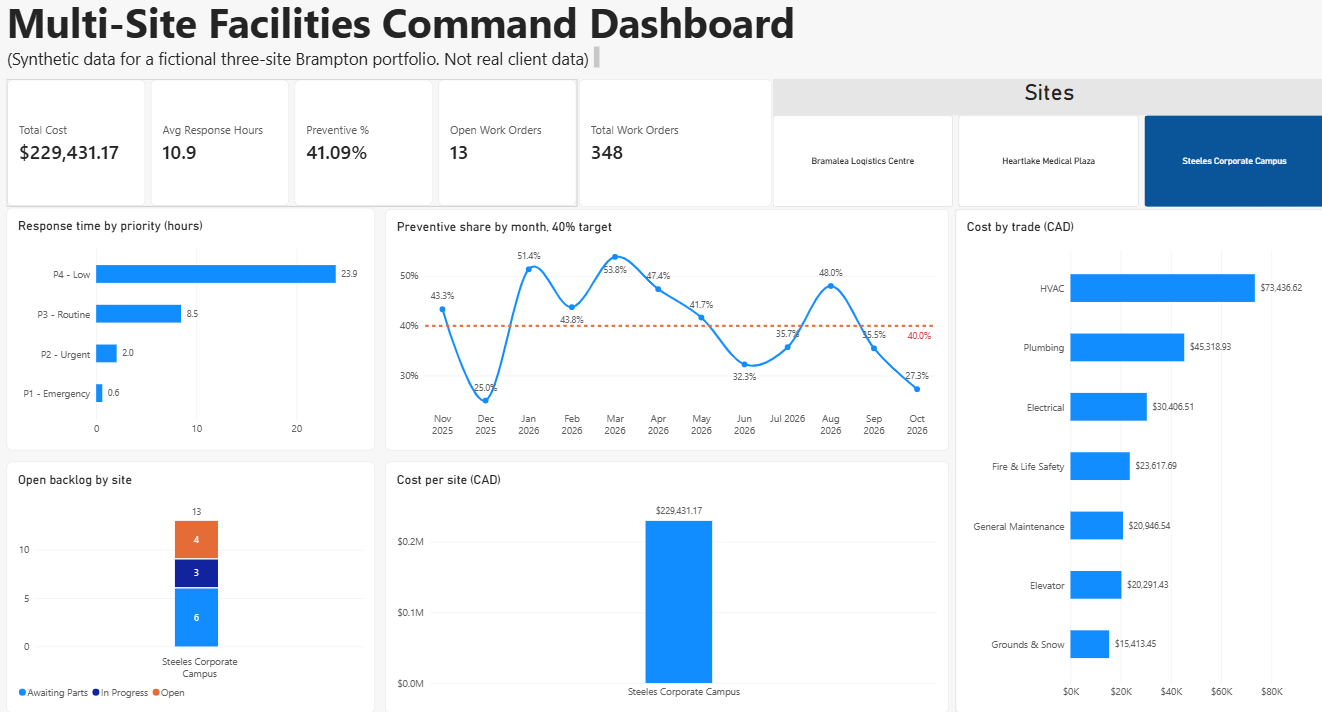

The dashboard page shown, as its layout file describes it:
{"tool":"powerbi","page":{"name":"Page 1","canvas":[1920,1080],"ordinal":0},"visuals":[{"type":"cardVisual","fields":{"Data":["WorkOrders.Total Work Orders"]},"box":[839.8,123.5,279.9,185.2],"z":0},{"type":"cardVisual","fields":{"Data":["WorkOrders.Total Cost","WorkOrders.Avg Response Hours","WorkOrders.Preventive %","WorkOrders.Open Work Orders"]},"box":[10.3,123.5,829.5,185.2],"z":1000},{"type":"clusteredBarChart","title":"Response time by priority (hours)","fields":{"Category":["WorkOrders.priority"],"Y":["WorkOrders.Avg Response Hours"]},"box":[10.9,309.5,533.8,351.1],"z":2000},{"type":"columnChart","title":"Open backlog by site","fields":{"Category":["WorkOrders.site"],"Series":["WorkOrders.status"],"Y":["WorkOrders.Open Work Orders"]},"box":[10.9,676.8,533.8,365.6],"z":3000},{"type":"lineChart","title":"Preventive share by month, 40% target","fields":{"Category":["Calendar.Month"],"Y":["WorkOrders.Preventive %"]},"box":[559.2,311.3,816.2,349.3],"z":4000},{"type":"clusteredColumnChart","title":"Cost per site (CAD)","fields":{"Category":["WorkOrders.site"],"Y":["WorkOrders.Total Cost"]},"box":[559.2,676.8,816.2,365.6],"z":5000},{"type":"clusteredBarChart","title":"Cost by trade (CAD)","fields":{"Category":["WorkOrders.trade"],"Y":["WorkOrders.Total Cost"]},"box":[1384.4,311.3,535.7,731.1],"z":6000},{"type":"advancedSlicerVisual","fields":{"Values":["WorkOrders.site"]},"box":[1119.7,123.5,800.7,185.2],"z":7000},{"type":"textbox","box":[10.3,0,1183.5,150.3],"z":7001},{"type":"textbox","box":[10.3,76.2,858.3,30.9],"z":7002}]}

Visuals, with their boxes on the page's 1920x1080 design canvas (x1, y1, x2, y2). These are canvas units, not pixel positions in the 1322x712 screenshot, which may show the page scaled, cropped or inside an application window:
cardVisual - WorkOrders.Total Work Orders: {"left": 840, "top": 124, "right": 1120, "bottom": 309}
cardVisual - WorkOrders.Total Cost x WorkOrders.Avg Response Hours: {"left": 10, "top": 124, "right": 840, "bottom": 309}
"Response time by priority (hours)" clusteredBarChart: {"left": 11, "top": 310, "right": 545, "bottom": 661}
"Open backlog by site" columnChart: {"left": 11, "top": 677, "right": 545, "bottom": 1042}
"Preventive share by month, 40% target" lineChart: {"left": 559, "top": 311, "right": 1375, "bottom": 661}
"Cost per site (CAD)" clusteredColumnChart: {"left": 559, "top": 677, "right": 1375, "bottom": 1042}
"Cost by trade (CAD)" clusteredBarChart: {"left": 1384, "top": 311, "right": 1920, "bottom": 1042}
advancedSlicerVisual - WorkOrders.site: {"left": 1120, "top": 124, "right": 1920, "bottom": 309}
textbox: {"left": 10, "top": 0, "right": 1194, "bottom": 150}
textbox: {"left": 10, "top": 76, "right": 869, "bottom": 107}
